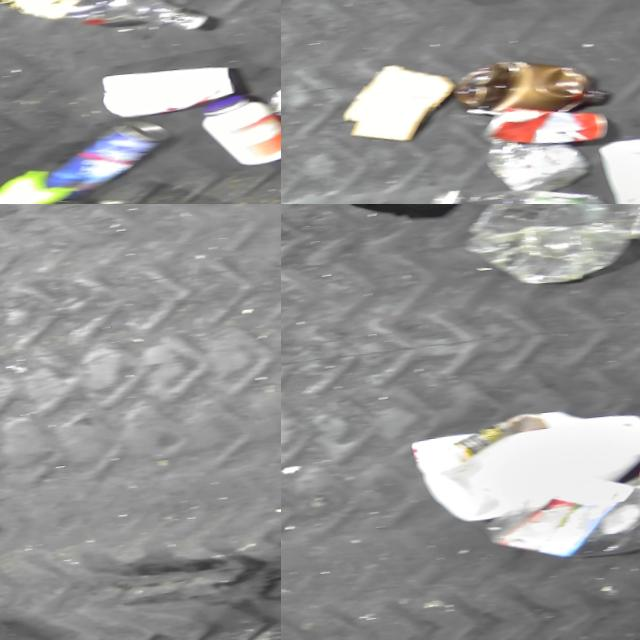can: (46, 124, 169, 204), (479, 112, 606, 159)
milk_jug: (407, 406, 640, 534), (600, 144, 640, 204)
plastic_bottle: (464, 204, 640, 300), (481, 481, 640, 576), (0, 0, 204, 55), (425, 182, 604, 204)
